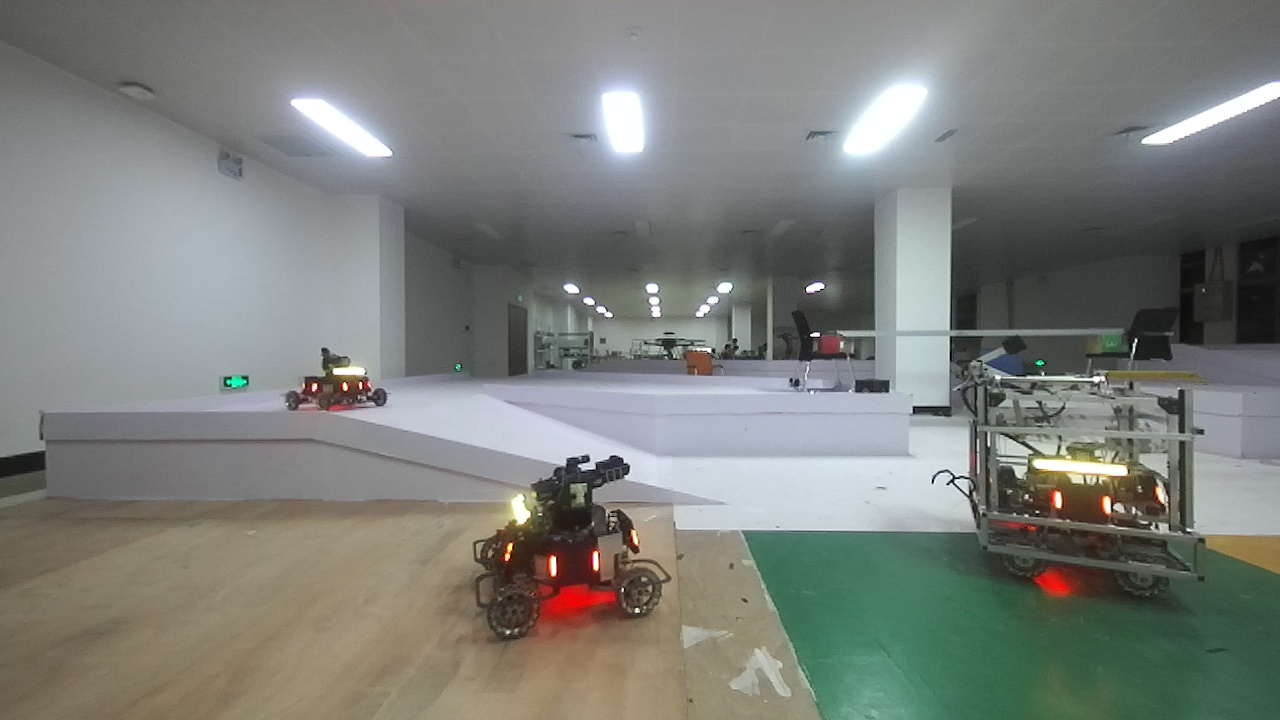car: (950, 322, 1198, 597), (452, 433, 674, 655), (276, 348, 397, 421)
